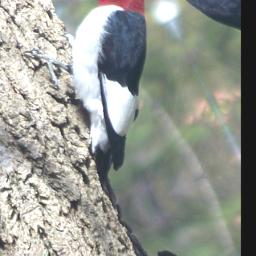Woodpecker: (2, 0, 215, 193)
